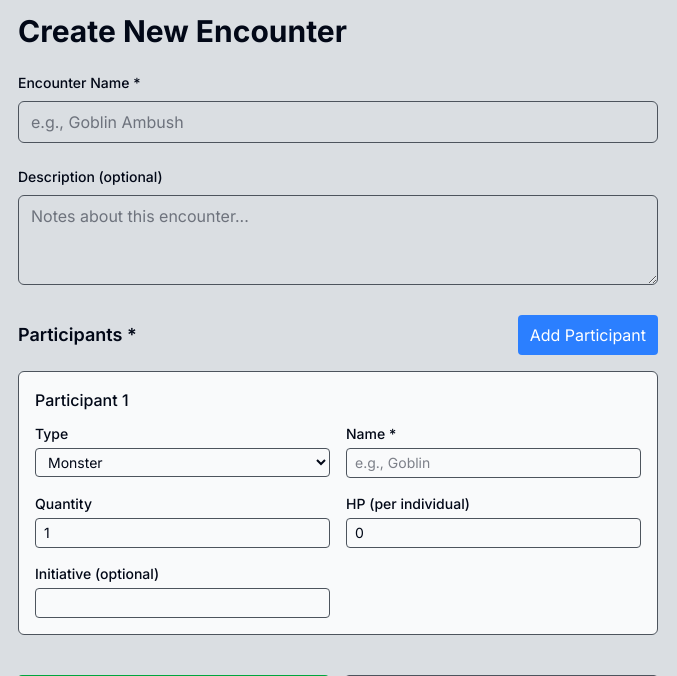
Test: NewEncounterPage - Form Validation & Submission › Form submission › disables Save button while saving
Note: Fill form
Type "Goblin Ambush" into the field labelled "Encounter Name *". click: (338,122)
box: [18,101,658,143]
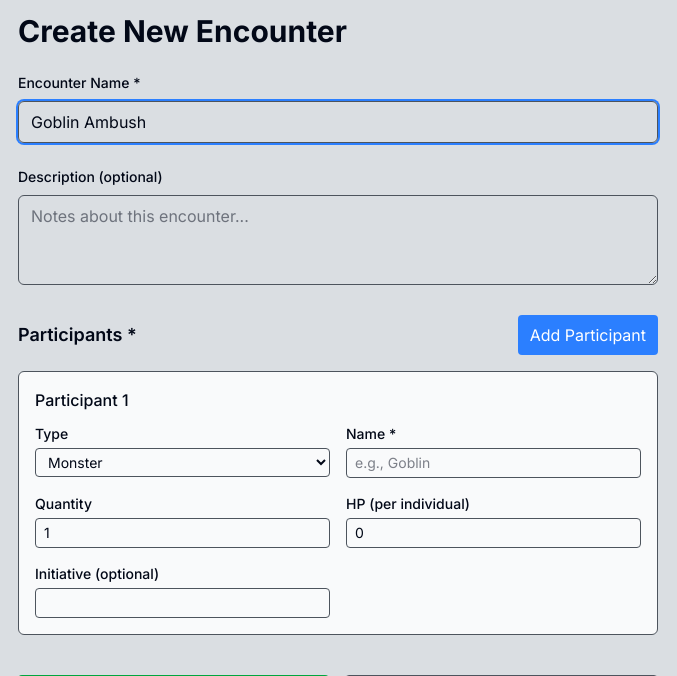
Type "Goblin" into the field with placeholder "e.g., Goblin". click: (494,463)
box: [346,448,641,478]
(page scrolled)
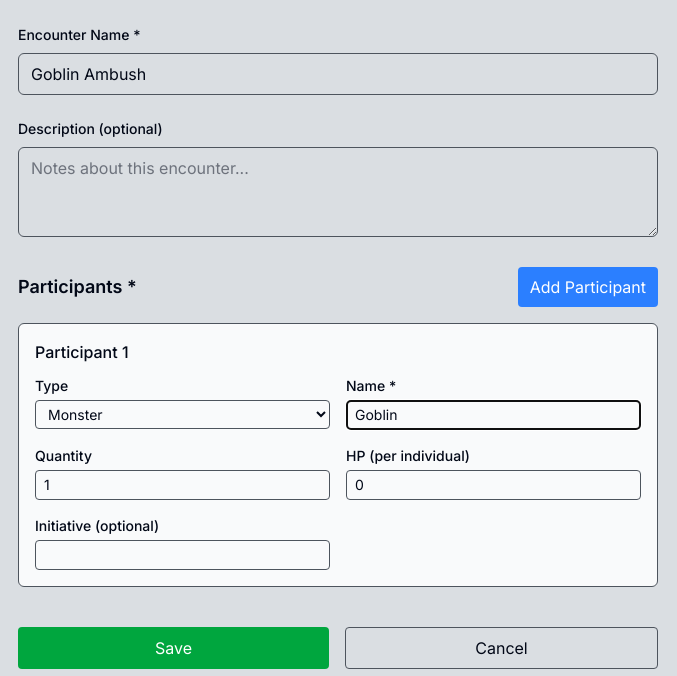
Click the button "Save". click: (174,648)
box: [18,627,329,669]
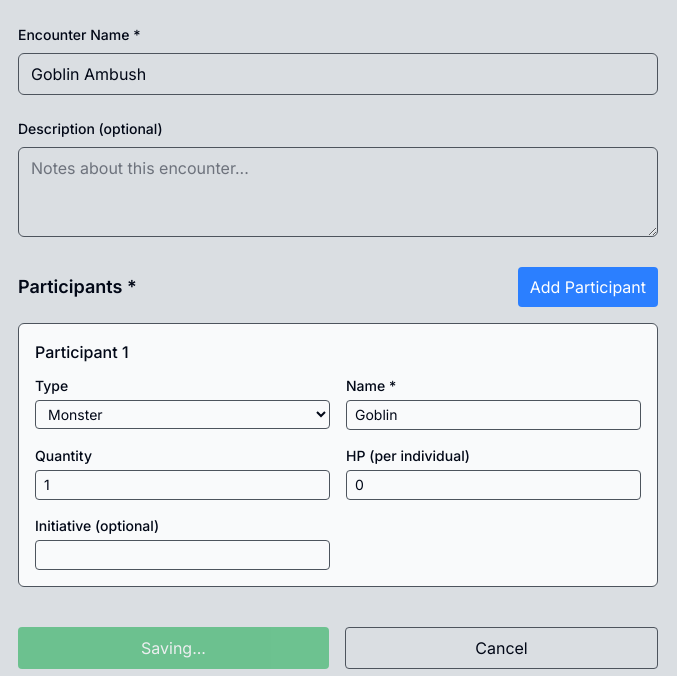
Expected: the button "Saving..." is disabled, [18,627,329,669]
